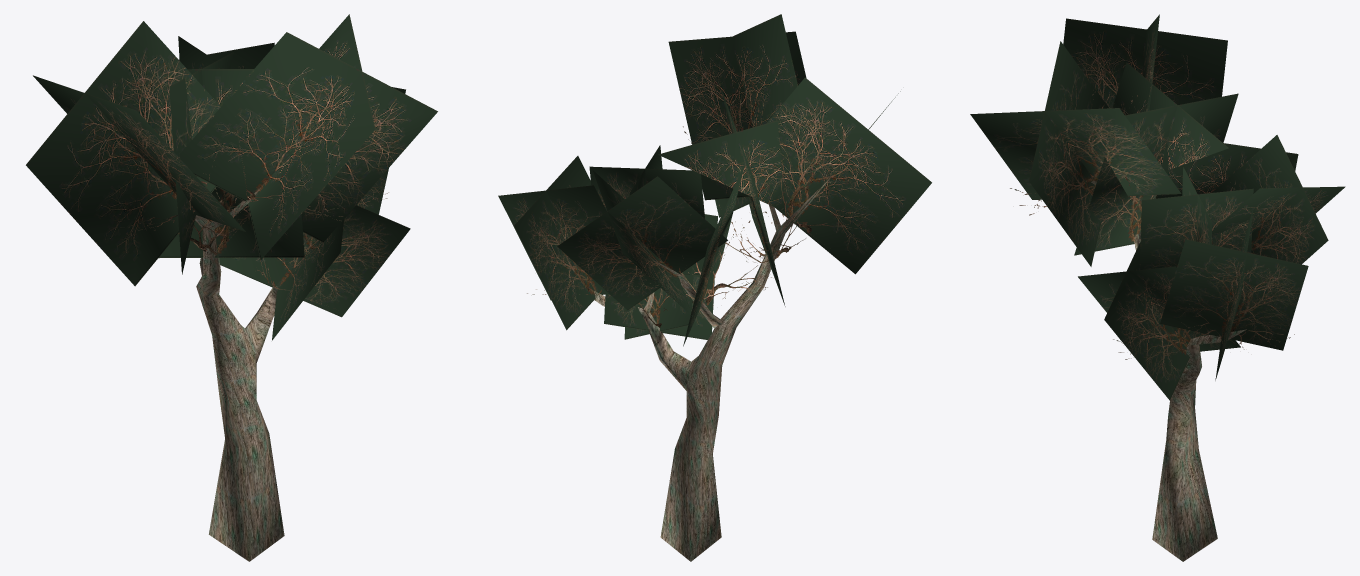
The model's file is decd_dogwoodtreebranches_l1.fbx.
3 renders of one model, left to right at view 1: azimuth 30°, elevation 25°; view 2: azimuth 150°, elevation 25°; view 3: azimuth 270°, elevation 25°, orthographic. The views are drawn at different scales.
Parts seen in each view (by area): view 1: mesh_node; view 2: mesh_node; view 3: mesh_node.
Part boxes in pixels (left/top/right/bottom): mesh_node: left=26, top=14, right=437, bottom=561; mesh_node: left=498, top=14, right=931, bottom=561; mesh_node: left=970, top=14, right=1345, bottom=561.
Bounding box in the file's own units: 12.68 × 15.69 × 10.86.
